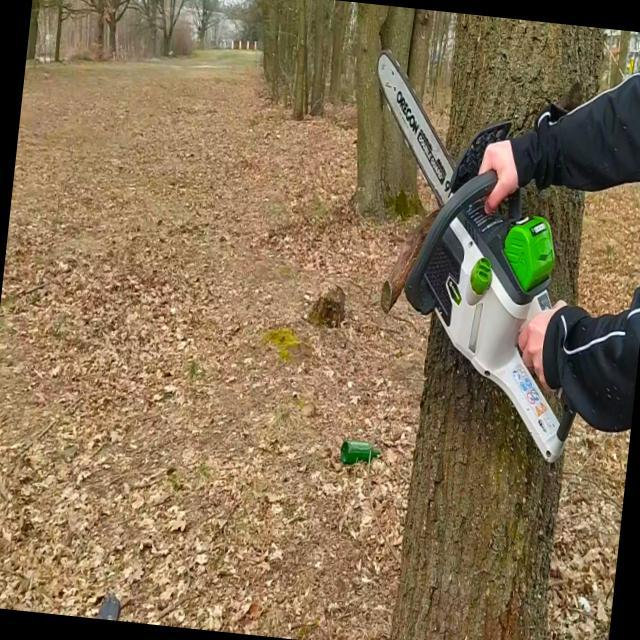Chainsaw: (330, 44, 616, 473)
